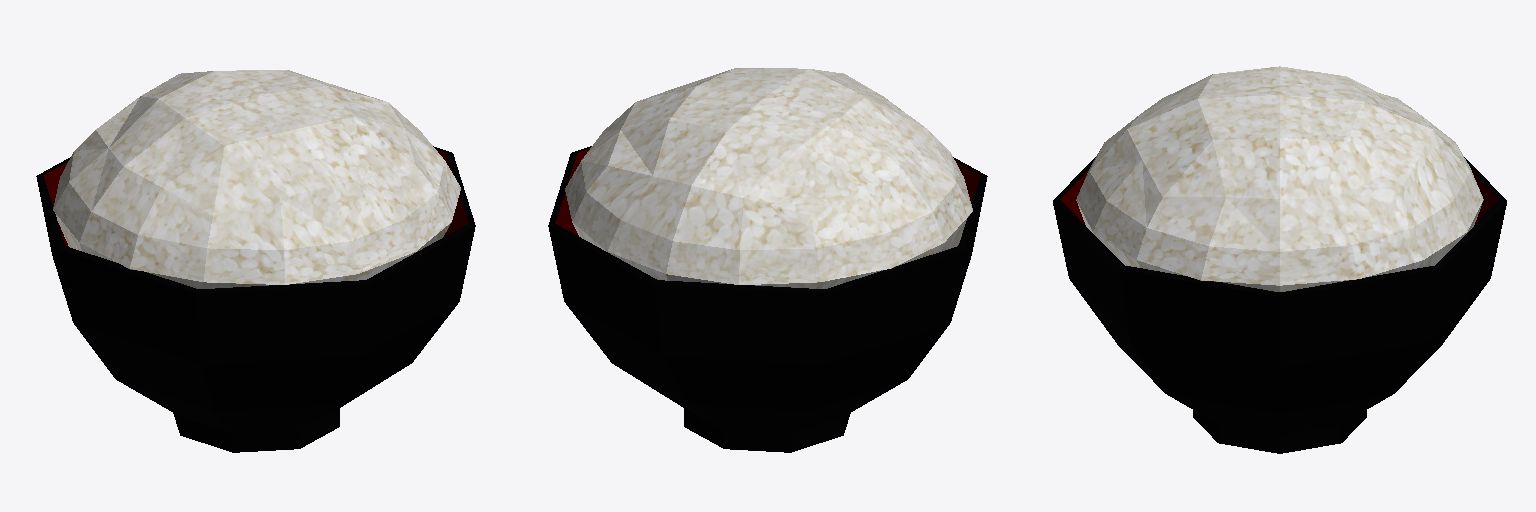
3 renders of one model, left to right at view 1: azimuth 30°, elevation 25°; view 2: azimuth 150°, elevation 25°; view 3: azimuth 270°, elevation 25°, orthographic.
Visible parts, largest first — view 1: bowl_of_rice; view 2: bowl_of_rice; view 3: bowl_of_rice.
Part boxes in pixels (x1,y1,x2,y2): bowl_of_rice: (36, 70, 475, 452); bowl_of_rice: (548, 68, 987, 452); bowl_of_rice: (1053, 66, 1506, 453).
Size of the model in its own units: 2.07 by 1.62 by 2.07.
Materials: 3 (1 with a texture image).